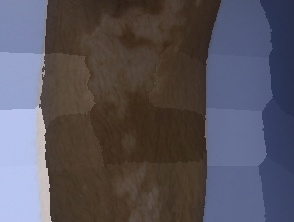vitiligo: (62, 0, 204, 128), (98, 152, 183, 222)
